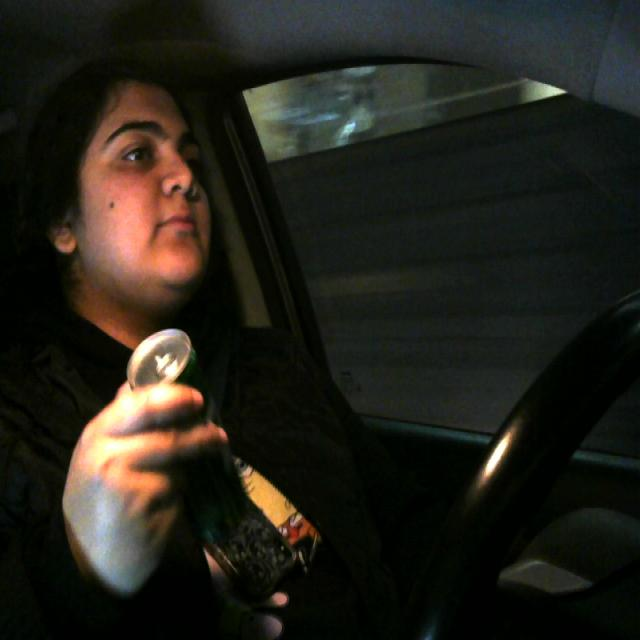drinking: (130, 333, 240, 495)
